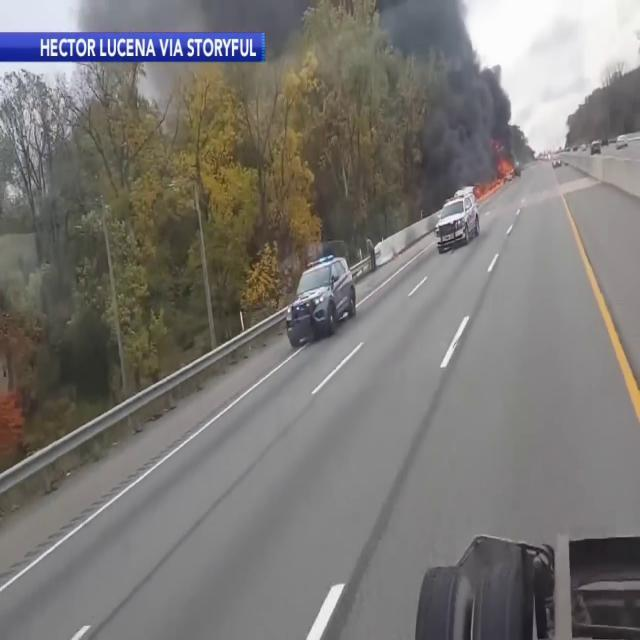Smoke: (315, 1, 515, 225)
